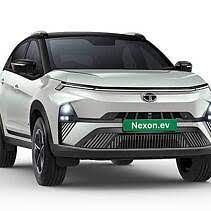Tata Nexon: (1, 27, 211, 188)
